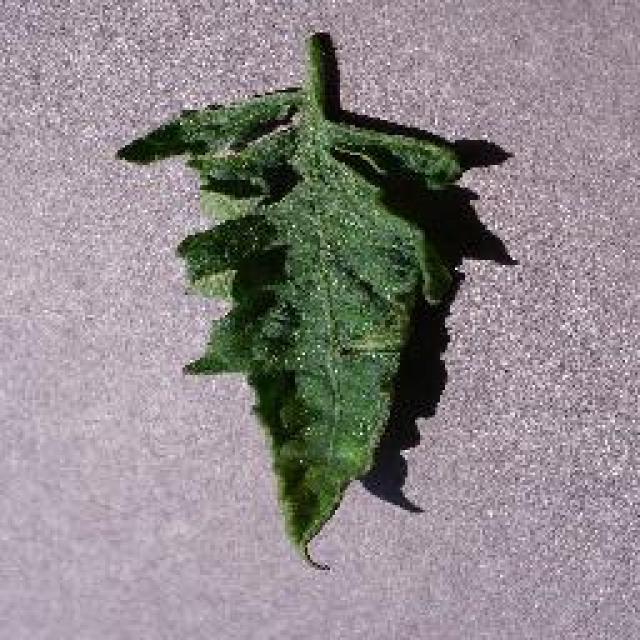Tomato___Tomato_mosaic_virus: (118, 35, 468, 560)
